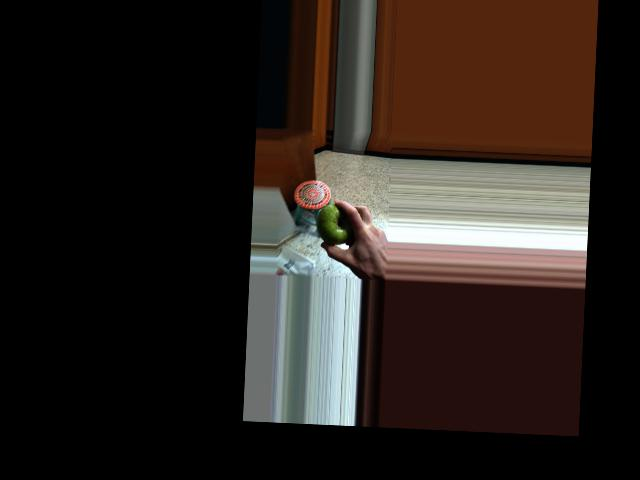apple: (315, 200, 359, 248)
